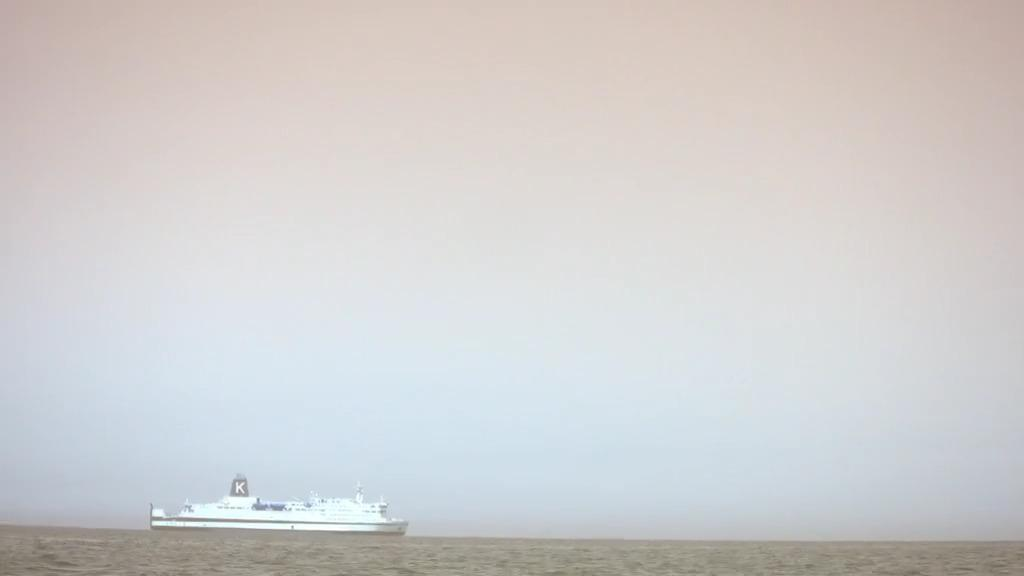PassengerShip: (136, 468, 418, 542)
